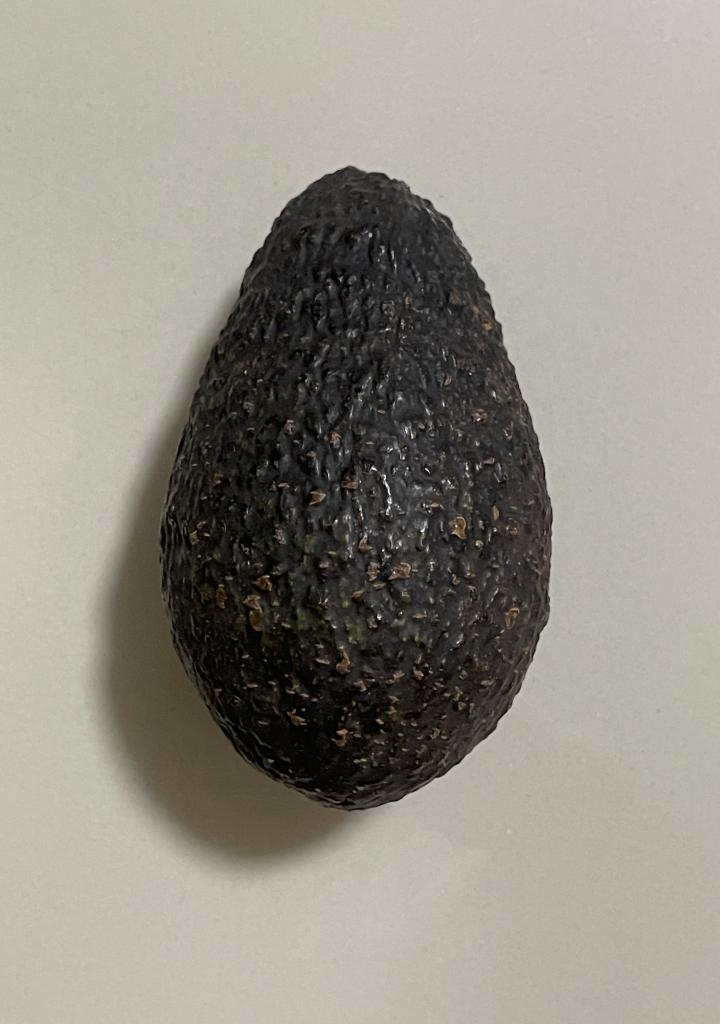Level2: (150, 152, 564, 819)
